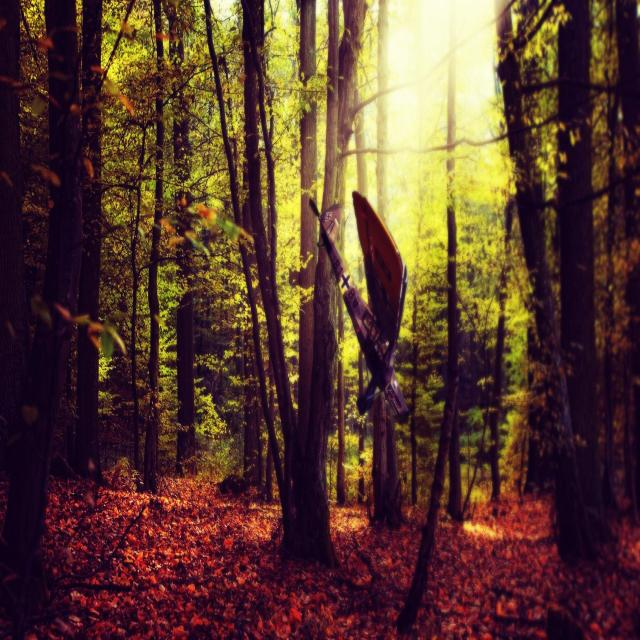airplane: (308, 190, 410, 420)
